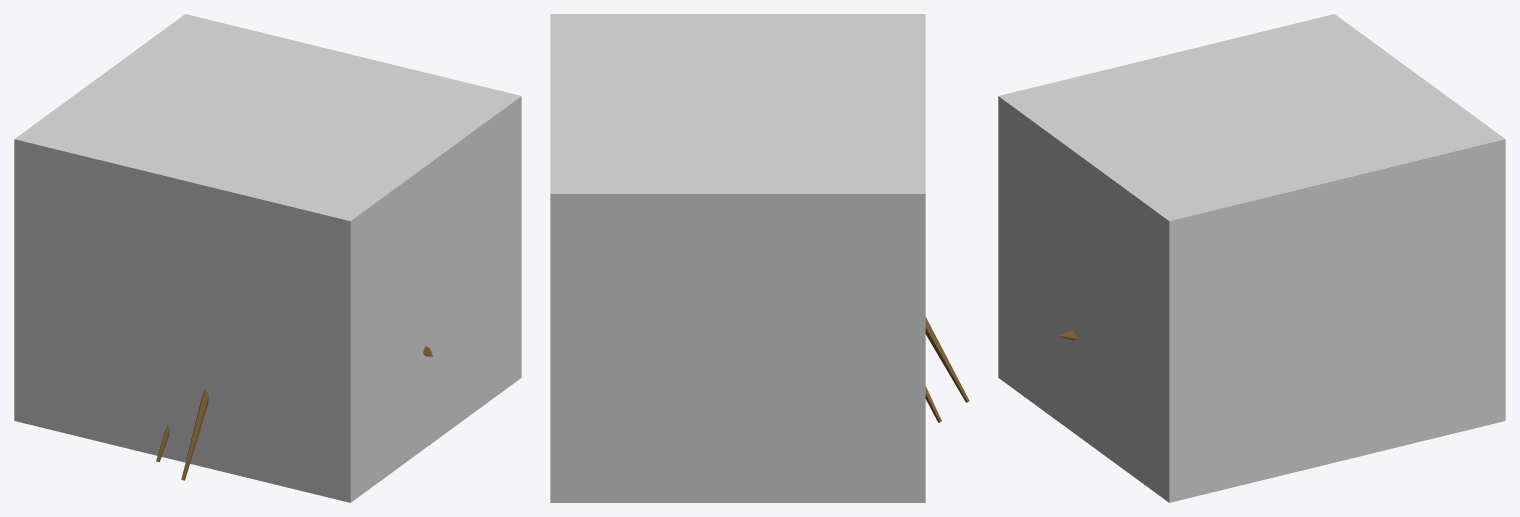
Rendered from desert_scorpion.fbx.
3 renders of one model, left to right at view 1: azimuth 30°, elevation 25°; view 2: azimuth 150°, elevation 25°; view 3: azimuth 270°, elevation 25°, orthographic. The views are drawn at different scales.
Parts seen in each view (by area): view 1: Root__0.00_1.74_-0.02__3.85_3.50_4.37, LegR1__Body__0.41_1.20_-0.75; view 2: Root__0.00_1.74_-0.02__3.85_3.50_4.37, LegR1__Body__0.41_1.20_-0.75; view 3: Root__0.00_1.74_-0.02__3.85_3.50_4.37.
Boxes of the visible parts, x1,y1,x2,y2 form: Root__0.00_1.74_-0.02__3.85_3.50_4.37: [14, 14, 521, 502]; LegR1__Body__0.41_1.20_-0.75: [181, 390, 208, 480]; Root__0.00_1.74_-0.02__3.85_3.50_4.37: [550, 14, 925, 502]; LegR1__Body__0.41_1.20_-0.75: [925, 317, 969, 402]; Root__0.00_1.74_-0.02__3.85_3.50_4.37: [998, 14, 1505, 502].
Bounding box in the file's own units: 155 × 98 × 160.
1 material, 1 textured.
